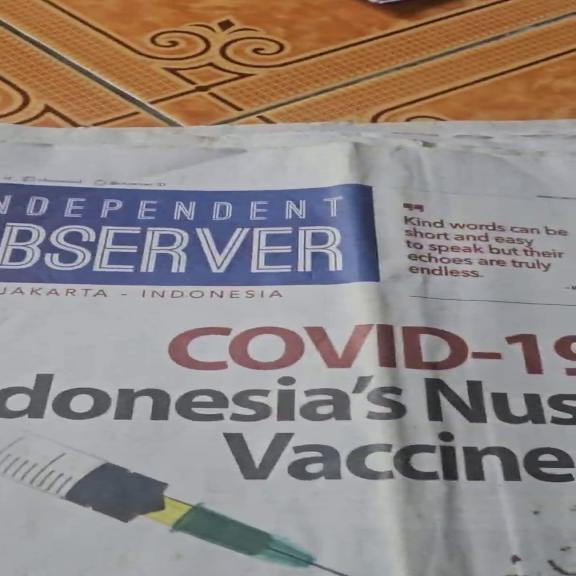Kertas: (5, 141, 576, 576)
